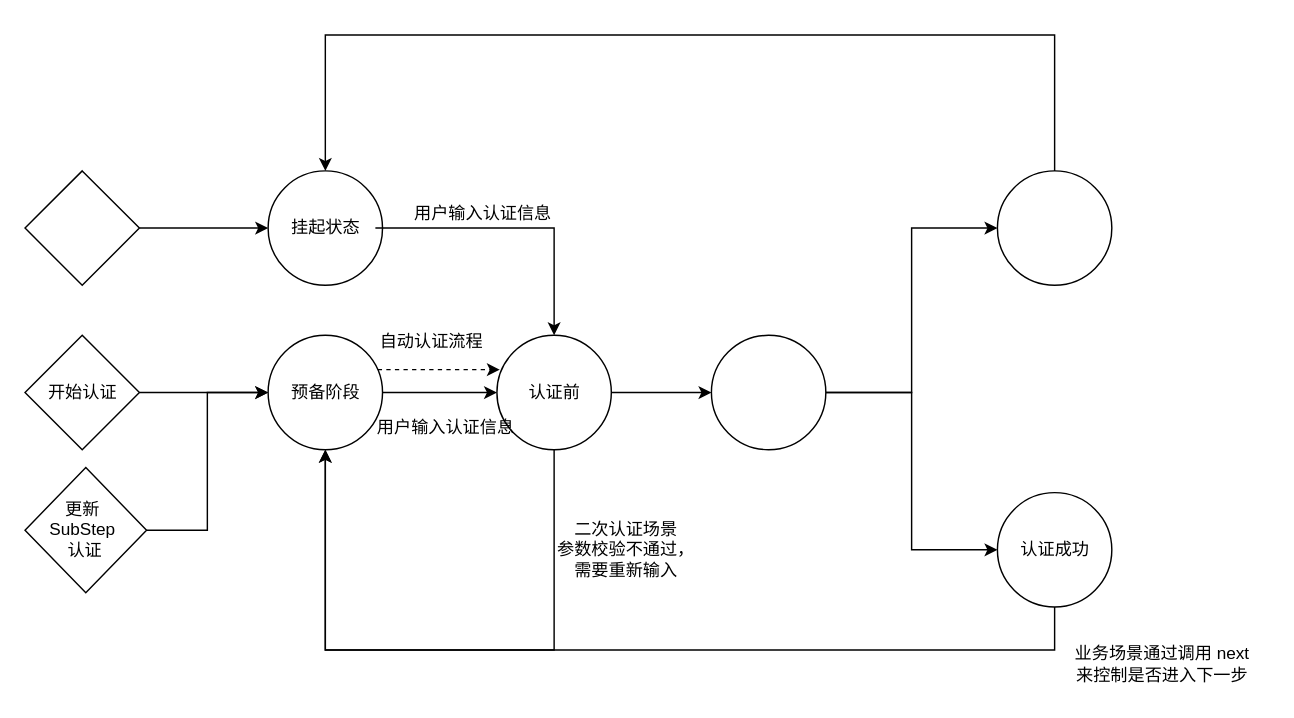
The diagram is 1294 pixels wide and 718 high, and some of its shapes have lost their labels. Here are the shapes that lost their labels. From the top down, the centre of each, then its label:
At pixel 81 227: "重置认证".
At pixel 1054 227: "认证失败".
At pixel 768 392: "认证中".
